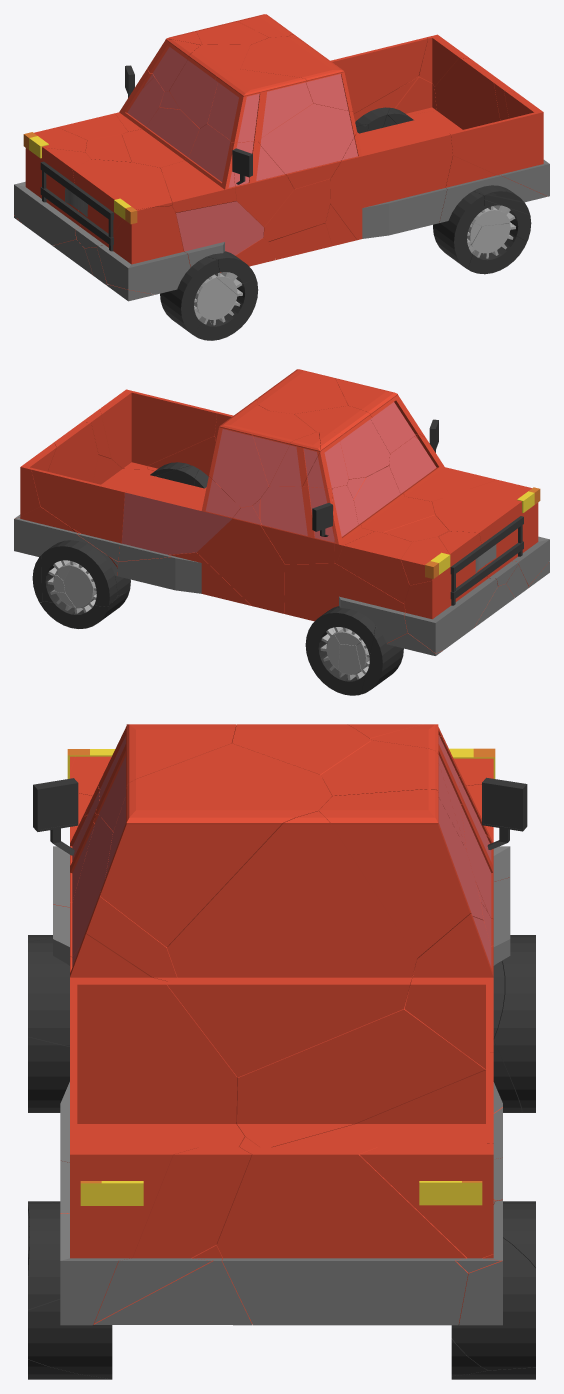
File: Truck Red Shatter.fbx
3 views of the same model, one above another, from view 1: azimuth 30°, elevation 25°; view 2: azimuth 150°, elevation 25°; view 3: azimuth 270°, elevation 25° (orthographic). The views are drawn at different scales.
Visible parts, largest first — view 1: Truck Body.001_cell.013, Truck Body.001_cell.043, Truck Body.001_cell.026, Truck Body.001_cell.050, Truck Body.001_cell.044, Truck Body.001_cell.036, Truck Body.001_cell.031, Truck Body.001_cell.054, Truck Body.001_cell.032, Truck Body.001_cell.004, Truck Body.001_cell.030, Truck Body.001_cell.017 (+34 smaller); view 2: Truck Body.001_cell.050, Truck Body.001_cell.005, Truck Body.001_cell.032, Truck Body.001_cell.041, Truck Body.001_cell.024, Truck Body.001_cell.030, Truck Body.001_cell.027, Truck Body.001_cell.031, Truck Body.001_cell.020, Truck Body.001_cell.054, Truck Body.001_cell.046, Truck Body.001_cell.056 (+32 smaller); view 3: Truck Body.001_cell.048, Truck Body.001_cell.043, Truck Body.001_cell.013, Truck Body.001_cell.004, Truck Body.001_cell.024, Truck Body.001_cell.020, Truck Body.001_cell.050, Truck Body.001_cell.003, Truck Body.001_cell.005, Truck Body.001_cell.002, Truck Body.001_cell.056, Truck Body.001_cell.036 (+29 smaller).
Part boxes in pixels (left/top/right/bottom): Truck Body.001_cell.013: left=330, top=132, right=452, bottom=239; Truck Body.001_cell.043: left=353, top=57, right=500, bottom=152; Truck Body.001_cell.026: left=97, top=206, right=190, bottom=294; Truck Body.001_cell.050: left=449, top=90, right=549, bottom=196; Truck Body.001_cell.044: left=207, top=69, right=313, bottom=142; Truck Body.001_cell.036: left=258, top=103, right=356, bottom=189; Truck Body.001_cell.031: left=72, top=159, right=172, bottom=248; Truck Body.001_cell.054: left=160, top=124, right=236, bottom=213; Truck Body.001_cell.032: left=14, top=147, right=90, bottom=245; Truck Body.001_cell.004: left=240, top=36, right=352, bottom=111; Truck Body.001_cell.030: left=333, top=37, right=427, bottom=114; Truck Body.001_cell.017: left=176, top=201, right=263, bottom=266; Truck Body.001_cell.050: left=100, top=389, right=218, bottom=469; Truck Body.001_cell.005: left=118, top=476, right=240, bottom=561; Truck Body.001_cell.032: left=404, top=531, right=497, bottom=653; Truck Body.001_cell.041: left=284, top=563, right=407, bottom=643; Truck Body.001_cell.024: left=197, top=497, right=284, bottom=613; Truck Body.001_cell.030: left=31, top=468, right=126, bottom=561; Truck Body.001_cell.027: left=260, top=486, right=334, bottom=564; Truck Body.001_cell.031: left=432, top=480, right=530, bottom=586; Truck Body.001_cell.020: left=209, top=405, right=268, bottom=507; Truck Body.001_cell.054: left=388, top=434, right=496, bottom=502; Truck Body.001_cell.046: left=294, top=406, right=389, bottom=479; Truck Body.001_cell.056: left=117, top=552, right=251, bottom=605; Truck Body.001_cell.048: left=167, top=811, right=416, bottom=1077; Truck Body.001_cell.043: left=216, top=1147, right=495, bottom=1325; Truck Body.001_cell.013: left=60, top=934, right=244, bottom=1162; Truck Body.001_cell.004: left=100, top=743, right=332, bottom=947; Truck Body.001_cell.024: left=236, top=903, right=493, bottom=1147; Truck Body.001_cell.020: left=319, top=789, right=483, bottom=962; Truck Body.001_cell.050: left=60, top=1064, right=198, bottom=1325; Truck Body.001_cell.003: left=94, top=1147, right=251, bottom=1323; Truck Body.001_cell.005: left=404, top=914, right=502, bottom=1159; Truck Body.001_cell.002: left=359, top=1143, right=500, bottom=1272; Truck Body.001_cell.056: left=273, top=1070, right=502, bottom=1147; Truck Body.001_cell.036: left=70, top=814, right=177, bottom=981.
Bounding box in the file's own units: 404 × 197 × 210.
